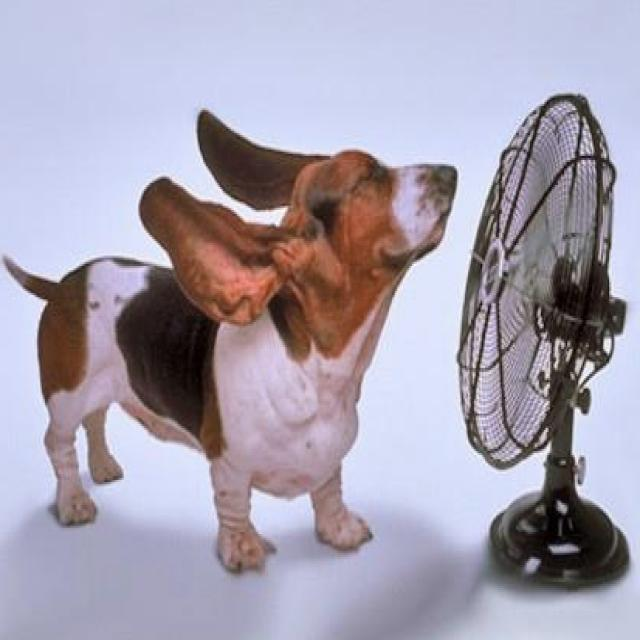basset: (2, 104, 460, 574)
